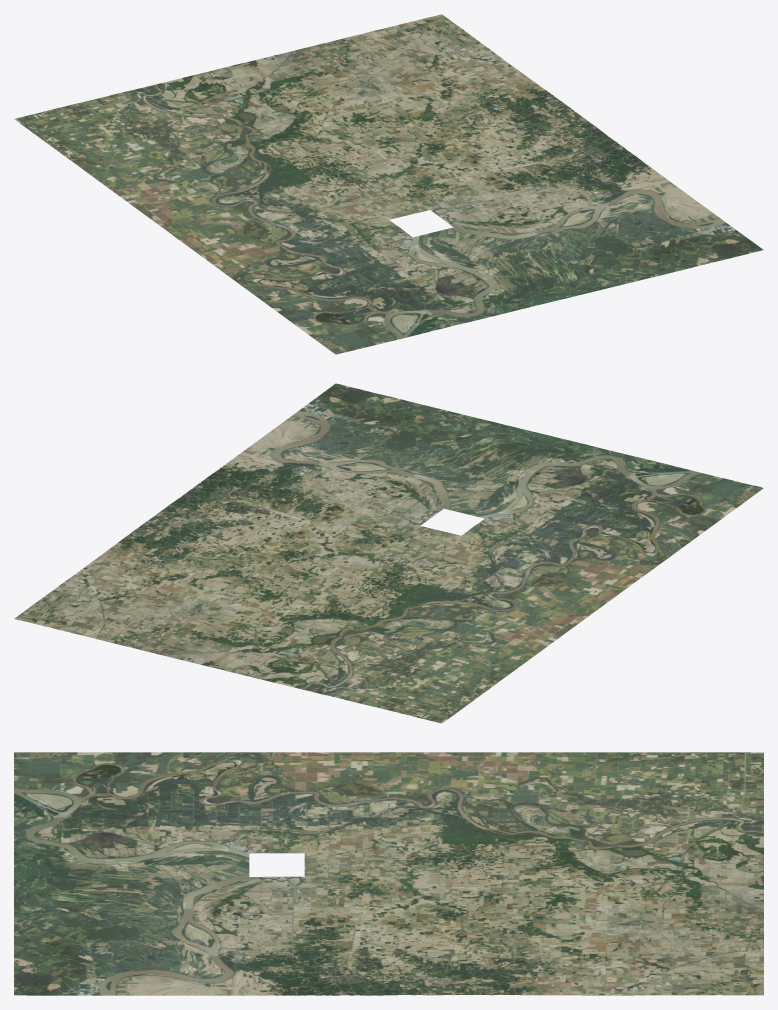
Rendered from posey_terrain.glb.
3 views of the same model, one above another, from view 1: azimuth 30°, elevation 25°; view 2: azimuth 150°, elevation 25°; view 3: azimuth 270°, elevation 25° (orthographic). The views are drawn at different scales.
Parts seen in each view (by area): view 1: geometry_0; view 2: geometry_0; view 3: geometry_0.
Part boxes in pixels (left/top/right/bottom): geometry_0: left=14, top=14, right=763, bottom=354; geometry_0: left=14, top=383, right=763, bottom=723; geometry_0: left=14, top=752, right=763, bottom=995.
Bounding box in the file's own units: 41759 × 74.69 × 54388.
1 material, 1 textured.
